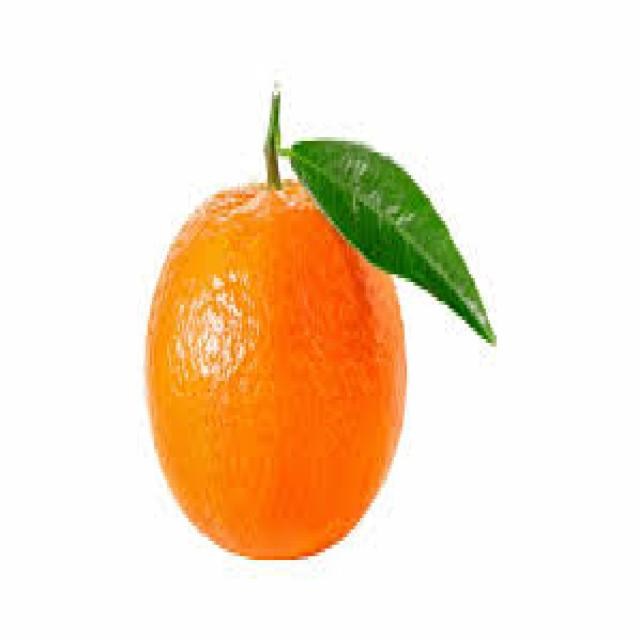Orange: (150, 179, 405, 548)
